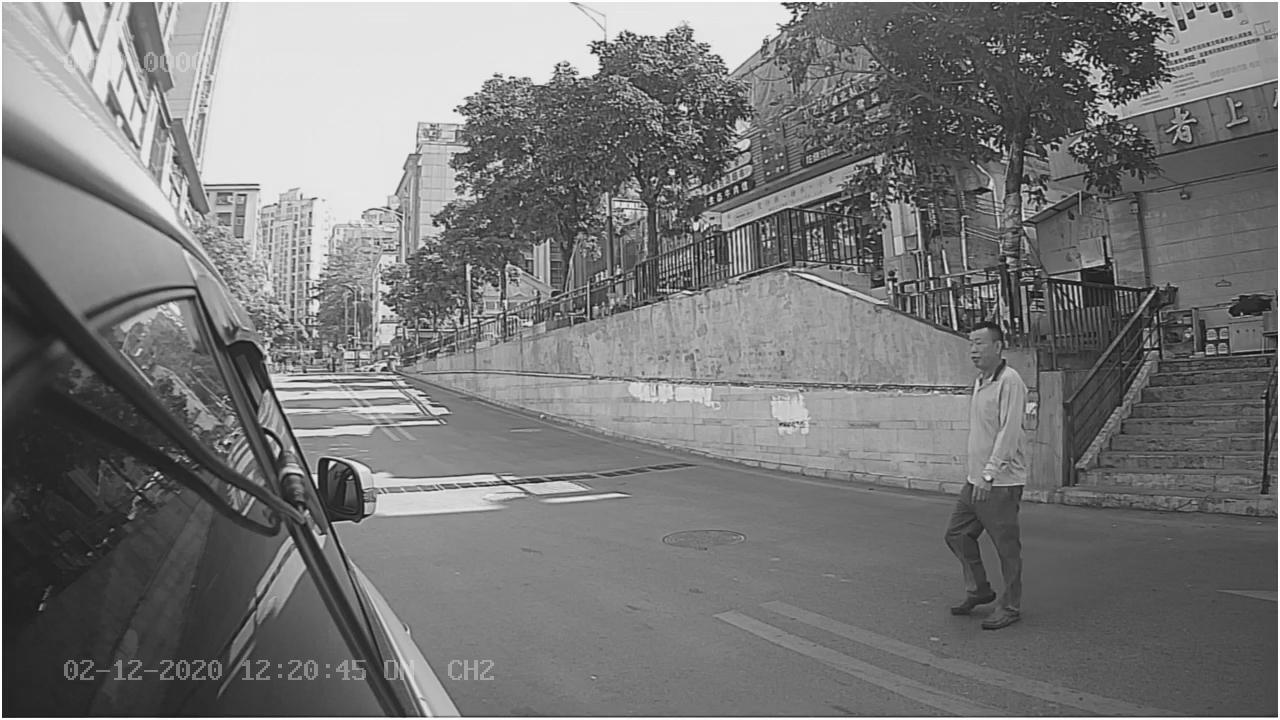person: (932, 318, 1030, 633)
